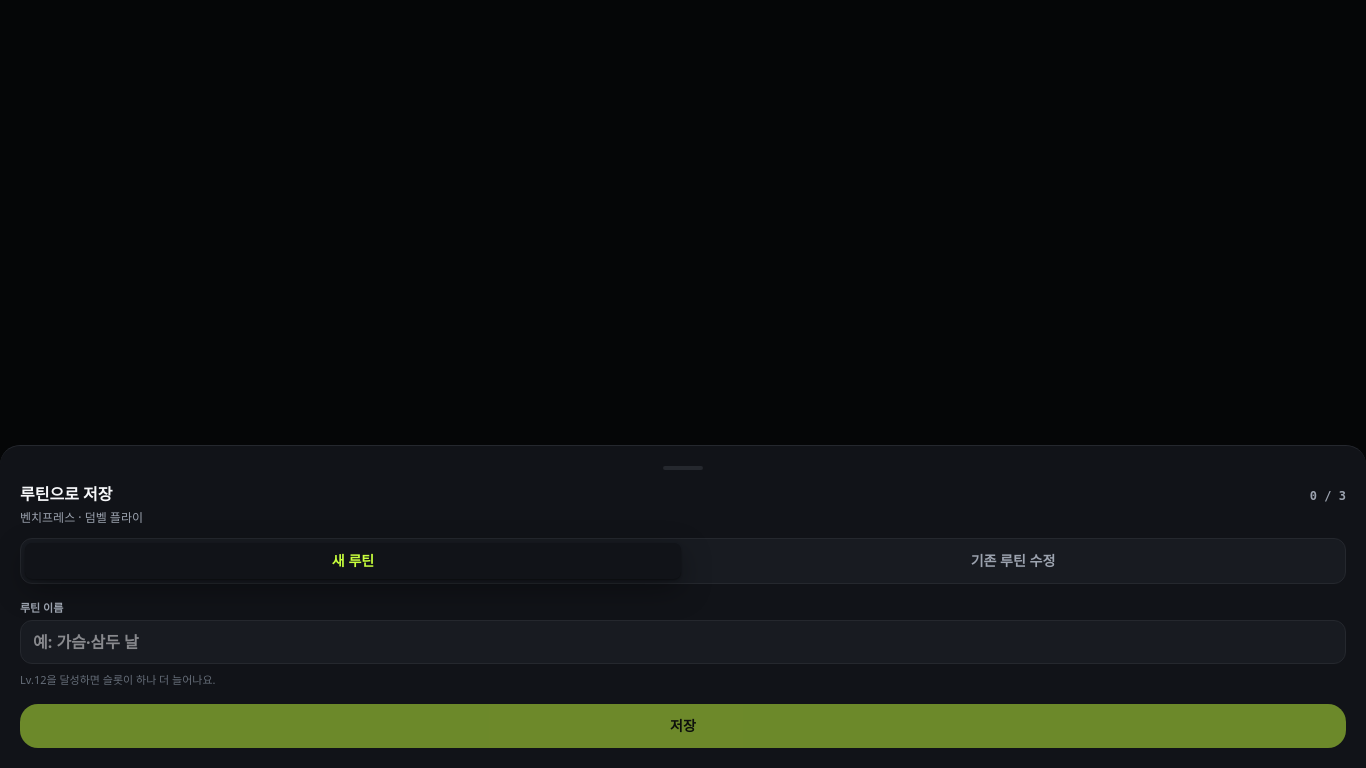
it: RoutineSaveSheet — 기존 루틴 종목 수정 (2026-08-04) › 기존 루틴 탭에서 현재 종목 구성을 보여준다
어느 루틴을 덮어쓸지 고르려면 지금 뭐가 들었는지 보여야 한다.
Click the button "기존 루틴 수정": click(1013, 561) [685,543,1341,579]
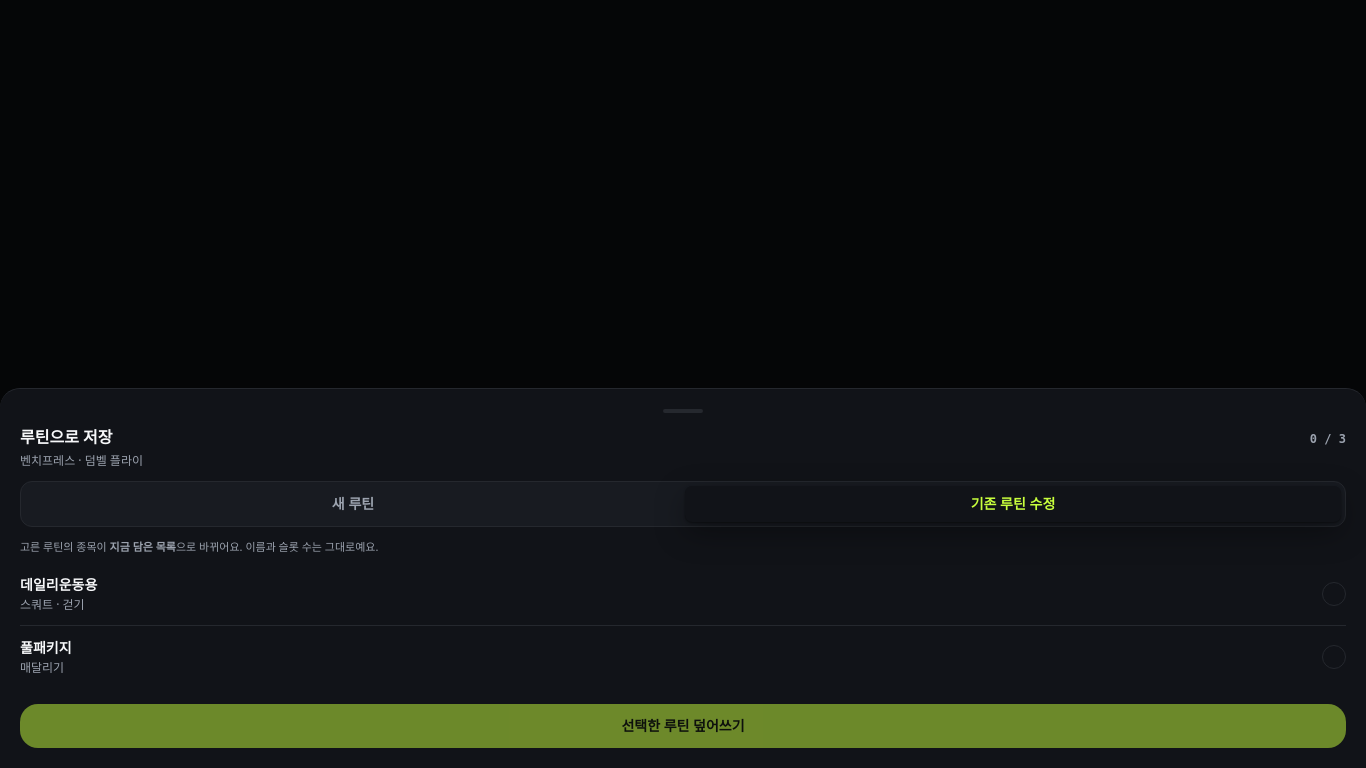
Now the text "스쿼트 · 걷기" is shown, box [20,596,85,613]
Now the text "매달리기" is shown, box [20,659,64,676]
